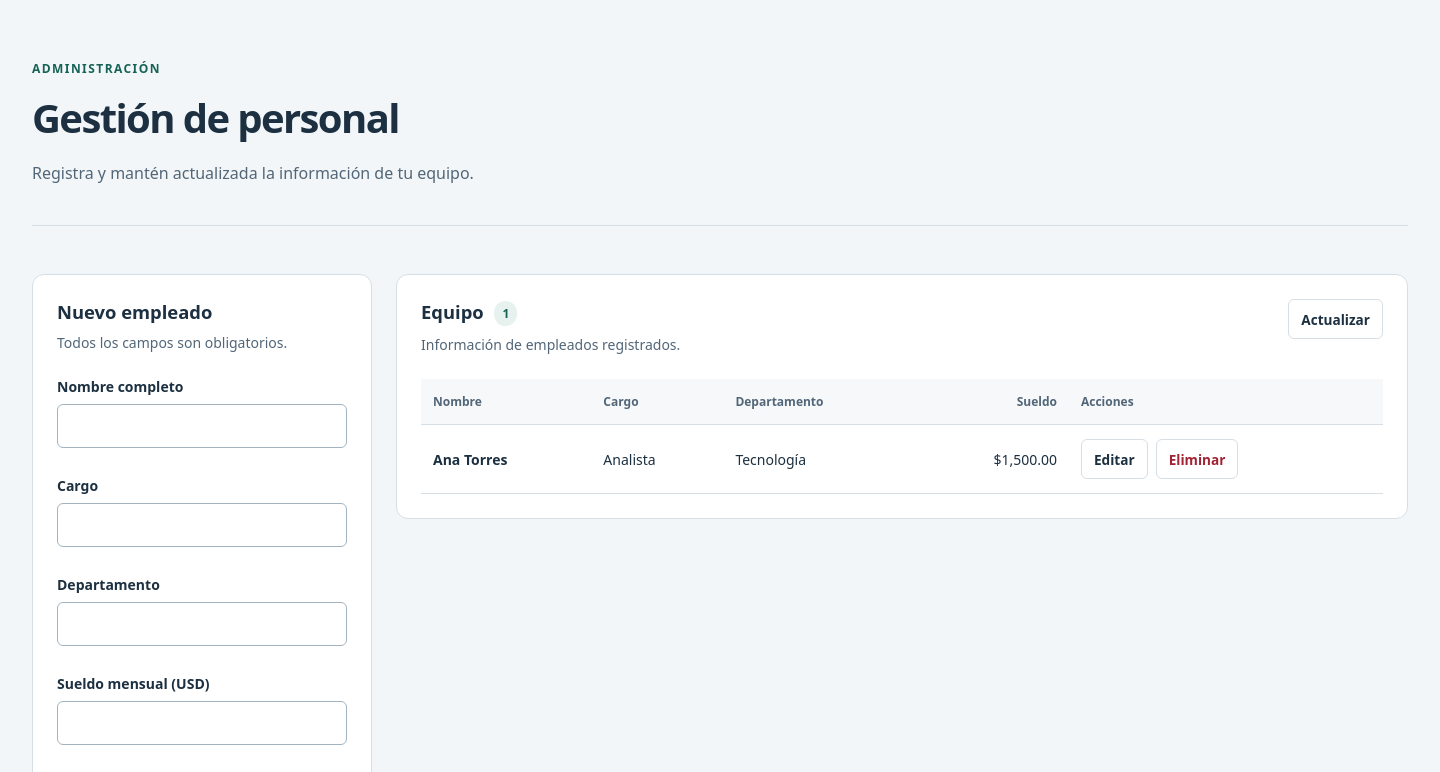
Test: Gestión de empleados: contenedor y componentes presentacionales › preserva la fila si falla la eliminación
Click the button "Eliminar". click: point(1197, 460)
box: [1156,440,1238,480]
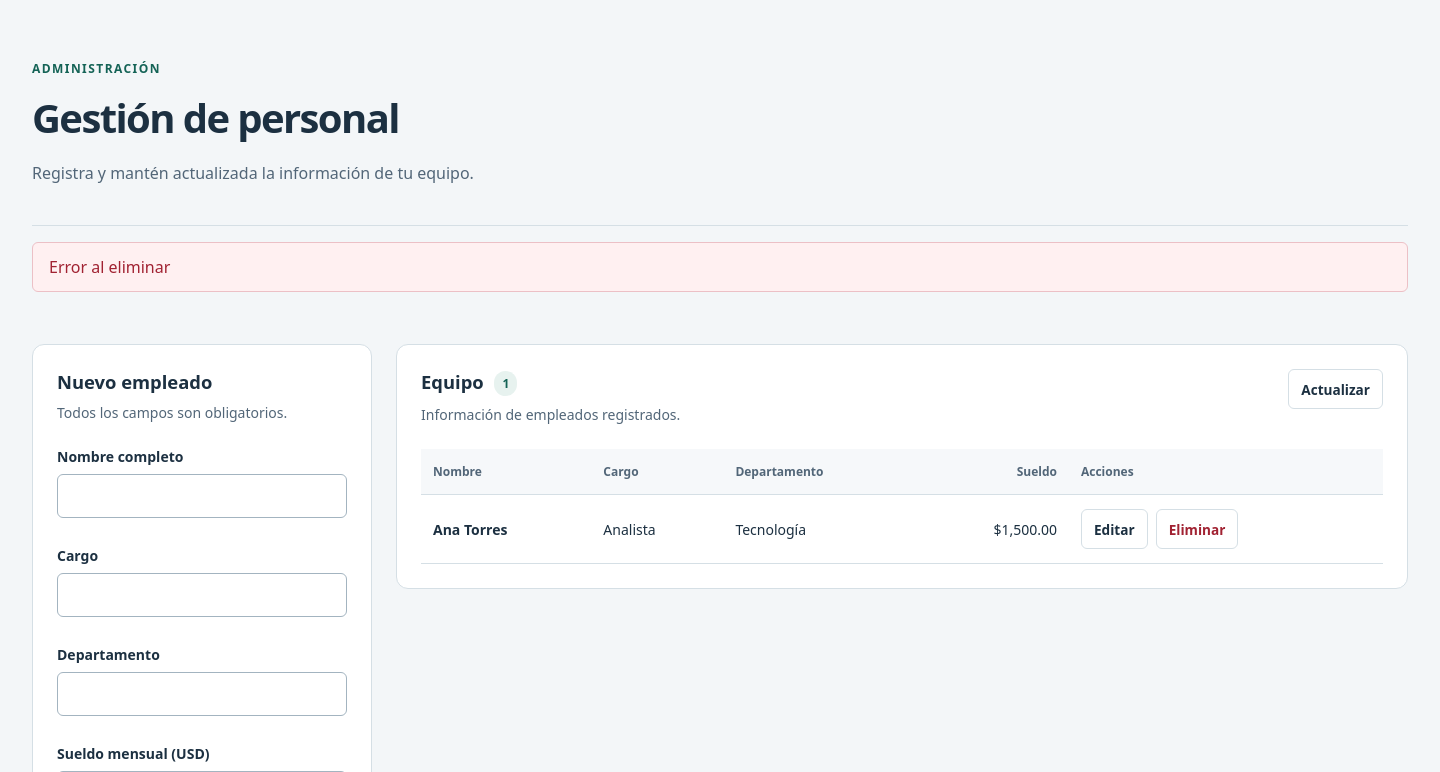
Now the message "Error al eliminar" is shown, box [32,242,1408,292]
